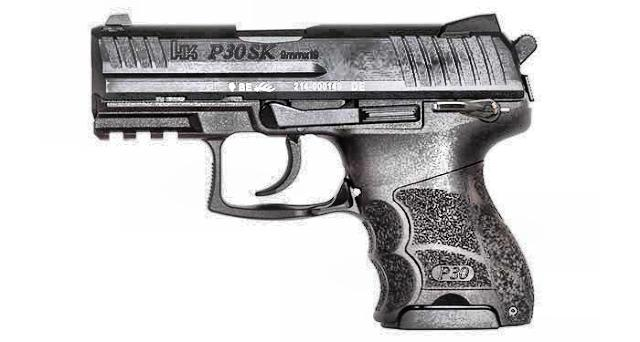pistol: (82, 10, 540, 330)
